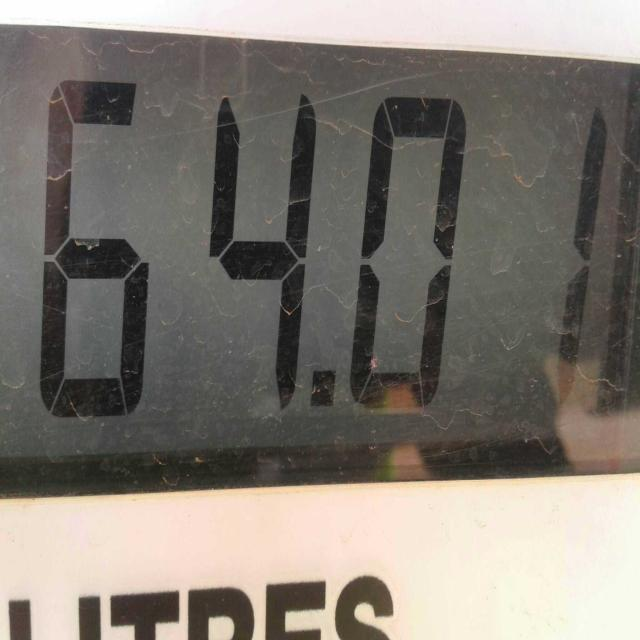.: (304, 347, 347, 436)
0: (344, 62, 466, 424)
1: (508, 80, 613, 435)
4: (188, 69, 318, 429)
6: (30, 69, 155, 419)
